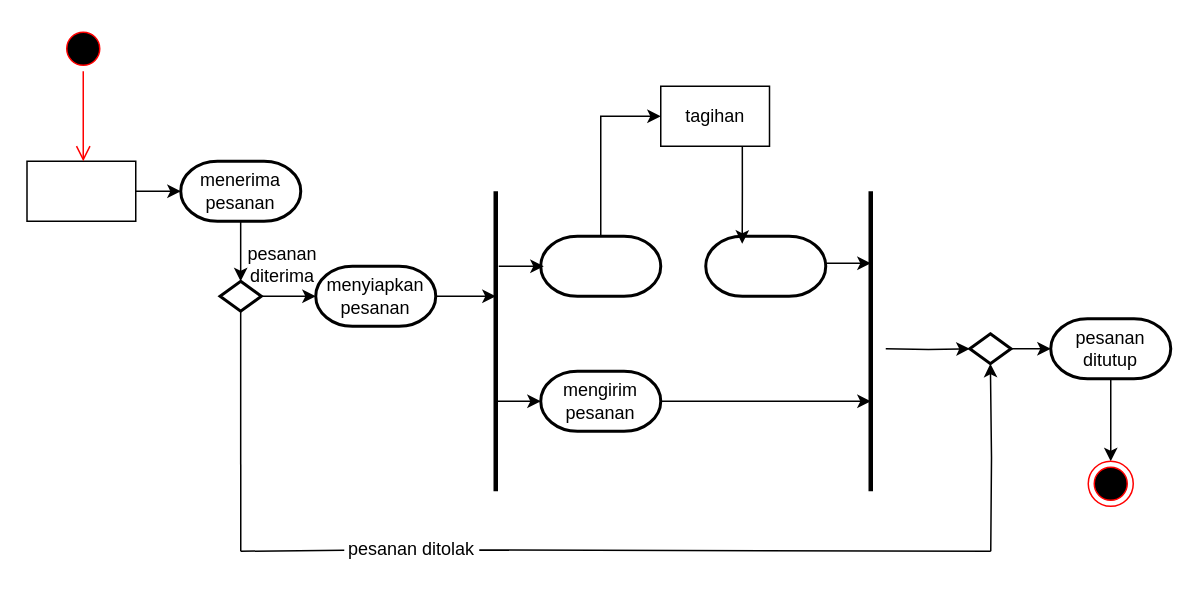
The diagram is 1197 pixels wide and 599 high, and some of its shapes have lost their labels. Each missing label, with the centre of its shape:
"menerima pembayaran" belongs at [765,265].
"mengirim tagihan" belongs at [600,265].
"permintaan pesanan" belongs at [81,190].
